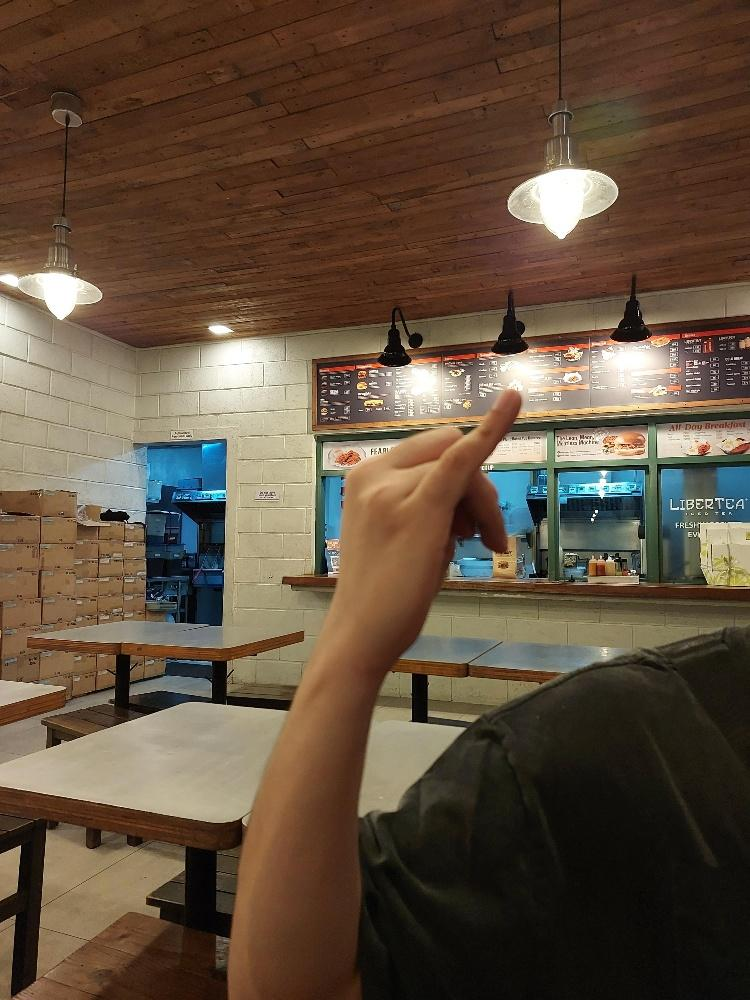j: (330, 384, 525, 673)
